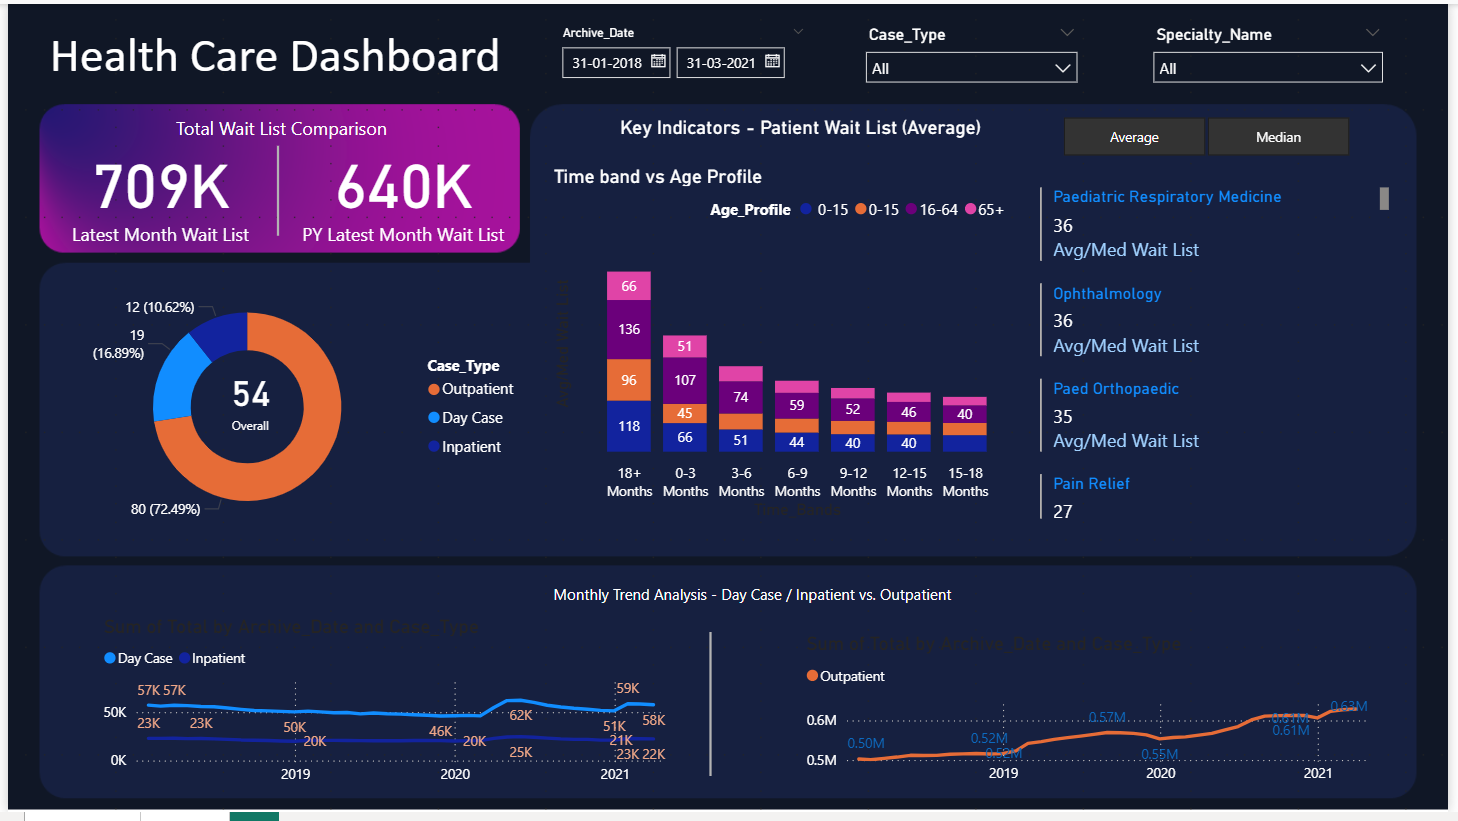

This screenshot's page, from the dashboard's own definition file:
{"tool":"powerbi","page":{"name":"Summary","canvas":[1280,720],"ordinal":0},"visuals":[{"type":"card","fields":{"Values":["All_Data.Latest Month Wait List"]},"box":[48,112,176,112],"z":0},{"type":"card","fields":{"Values":["All_Data.PY Latest Month Wait List"]},"box":[256,112,192,112],"z":1000},{"type":"slicer","fields":{"Values":["Calculation Method.Calc Method"]},"box":[912,96,304,48],"z":2000},{"type":"donutChart","fields":{"Category":["All_Data.Case_Type"],"Y":["All_Data.Avg/Med Wait List"]},"box":[48,240,416,240],"z":3000},{"type":"columnChart","title":"Time band vs Age Profile","fields":{"Y":["All_Data.Avg/Med Wait List"],"Category":["All_Data.Time_Bands"],"Series":["All_Data.Age_Profile"]},"box":[480,144,416,320],"z":4000},{"type":"multiRowCard","fields":{"Values":["All_Data.Avg/Med Wait List","All_Data.Specialty_Name"]},"box":[912,160,320,304],"z":5000},{"type":"slicer","fields":{"Values":["All_Data.Archive_Date"]},"box":[480,16,240,64],"z":7000},{"type":"slicer","fields":{"Values":["All_Data.Case_Type"]},"box":[752,16,208,64],"z":8000},{"type":"textbox","box":[32,16,416,64],"z":10000},{"type":"slicer","fields":{"Values":["All_Data.Specialty_Name"]},"box":[1008,16,224,64],"z":11000},{"type":"card","fields":{"Values":["All_Data.Avg/Med Wait List"]},"box":[176,304,80,96],"z":12000},{"type":"shape","box":[80,128,320,80],"z":13000},{"type":"shape","box":[464,560,320,128],"z":14000},{"type":"card","fields":{"Values":["All_Data.Dynamic Title"]},"box":[384,64,640,96],"z":15000},{"type":"textbox","box":[144,96,208,32],"z":16000},{"type":"textbox","box":[480,512,400,32],"z":17000},{"type":"lineChart","fields":{"Category":["All_Data.Archive_Date"],"Y":["Sum(All_Data.Total)"],"Series":["All_Data.Case_Type"]},"box":[704,560,512,144],"z":17001},{"type":"lineChart","fields":{"Category":["All_Data.Archive_Date"],"Y":["Sum(All_Data.Total)"],"Series":["All_Data.Case_Type"]},"box":[80,544,512,160],"z":17002}]}

Visuals, with their boxes in screenshot pixels (x1, y1, x2, y2), scaled from the page's 1280x720 canvas onto the 1458x821 screenshot:
card - All_Data.Latest Month Wait List: x1=55 y1=128 x2=255 y2=255
card - All_Data.PY Latest Month Wait List: x1=292 y1=128 x2=510 y2=255
slicer - Calculation Method.Calc Method: x1=1039 y1=109 x2=1385 y2=164
donutChart - All_Data.Case_Type x All_Data.Avg/Med Wait List: x1=55 y1=274 x2=529 y2=547
"Time band vs Age Profile" columnChart: x1=547 y1=164 x2=1021 y2=529
multiRowCard - All_Data.Avg/Med Wait List x All_Data.Specialty_Name: x1=1039 y1=182 x2=1403 y2=529
slicer - All_Data.Archive_Date: x1=547 y1=18 x2=820 y2=91
slicer - All_Data.Case_Type: x1=857 y1=18 x2=1094 y2=91
textbox: x1=36 y1=18 x2=510 y2=91
slicer - All_Data.Specialty_Name: x1=1148 y1=18 x2=1403 y2=91
card - All_Data.Avg/Med Wait List: x1=200 y1=347 x2=292 y2=456
shape: x1=91 y1=146 x2=456 y2=237
shape: x1=529 y1=639 x2=893 y2=785
card - All_Data.Dynamic Title: x1=437 y1=73 x2=1166 y2=182
textbox: x1=164 y1=109 x2=401 y2=146
textbox: x1=547 y1=584 x2=1002 y2=620
lineChart - All_Data.Archive_Date x Sum(All_Data.Total): x1=802 y1=639 x2=1385 y2=803
lineChart - All_Data.Archive_Date x Sum(All_Data.Total): x1=91 y1=620 x2=674 y2=803
